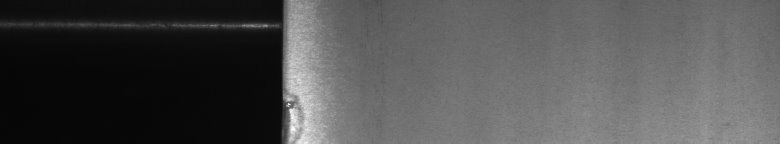hb: (292, 88, 326, 136)
